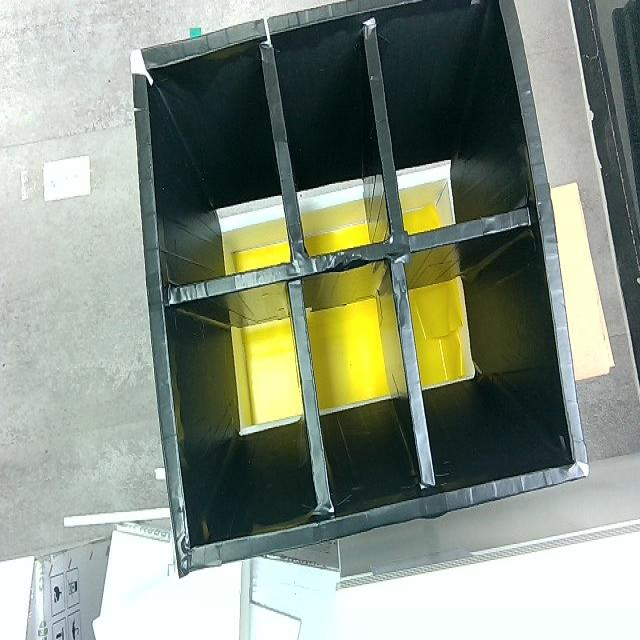box: (128, 0, 591, 578)
